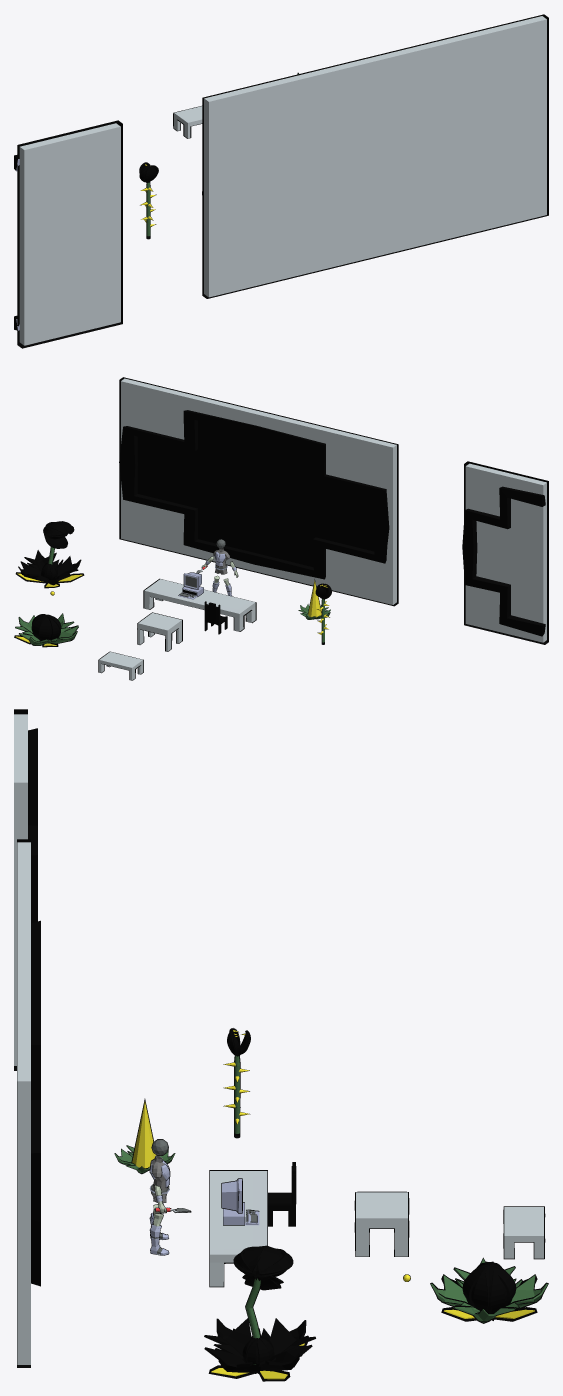
File: Budding3.fbx
The picture shows the model from 3 angles, top to bottom: view 1: azimuth 30°, elevation 25°; view 2: azimuth 150°, elevation 25°; view 3: azimuth 270°, elevation 25°; orthographic projection. The views are drawn at different scales.
Visible parts, largest first — view 1: wall panel, door_half, table3; view 2: wall panel, door_half, table1, peashooter_base, table2, peashooter_rotate, bud_base, table3, bud_bud, computer, chair; view 3: wall panel, table1, door_half, peashooter_base, peashooter_rotate, table2, bud_base, bud_bud, table3, computer, thorn_thorn, chair.
Boxes of the visible parts, bbox=[...] form: wall panel: bbox=[202, 14, 548, 298]; door_half: bbox=[14, 120, 122, 348]; table3: bbox=[173, 106, 202, 138]; wall panel: bbox=[119, 377, 398, 606]; door_half: bbox=[462, 461, 548, 644]; table1: bbox=[143, 578, 256, 631]; peashooter_base: bbox=[18, 550, 81, 585]; table2: bbox=[137, 612, 182, 651]; peashooter_rotate: bbox=[15, 521, 84, 588]; bud_base: bbox=[15, 613, 78, 645]; table3: bbox=[98, 651, 143, 680]; bud_bud: bbox=[31, 614, 61, 640]; computer: bbox=[178, 572, 203, 599]; chair: bbox=[204, 601, 227, 634]; wall panel: bbox=[17, 839, 40, 1367]; table1: bbox=[209, 1170, 267, 1287]; door_half: bbox=[14, 709, 37, 1070]; peashooter_base: bbox=[204, 1318, 315, 1373]; peashooter_rotate: bbox=[208, 1245, 308, 1381]; table2: bbox=[354, 1191, 409, 1256]; bud_base: bbox=[430, 1257, 548, 1323]; bud_bud: bbox=[462, 1261, 516, 1313]; table3: bbox=[503, 1206, 545, 1259]; computer: bbox=[221, 1178, 259, 1225]; thorn_thorn: bbox=[131, 1098, 156, 1168]; chair: bbox=[268, 1162, 296, 1226].
Size of the model in its own units: 1528 by 514 by 855.
